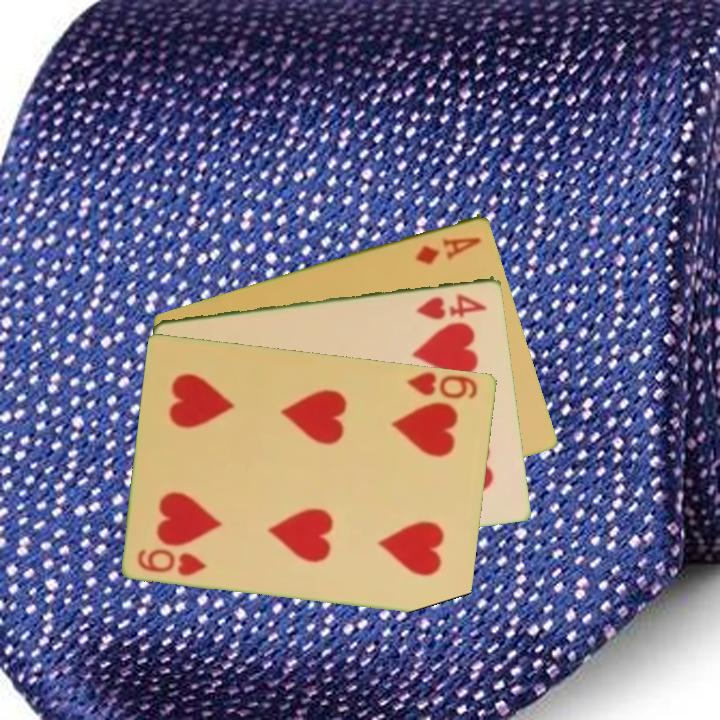4h: (413, 289, 490, 322)
6h: (404, 368, 481, 402), (134, 545, 210, 579)
Ad: (412, 233, 485, 267)
